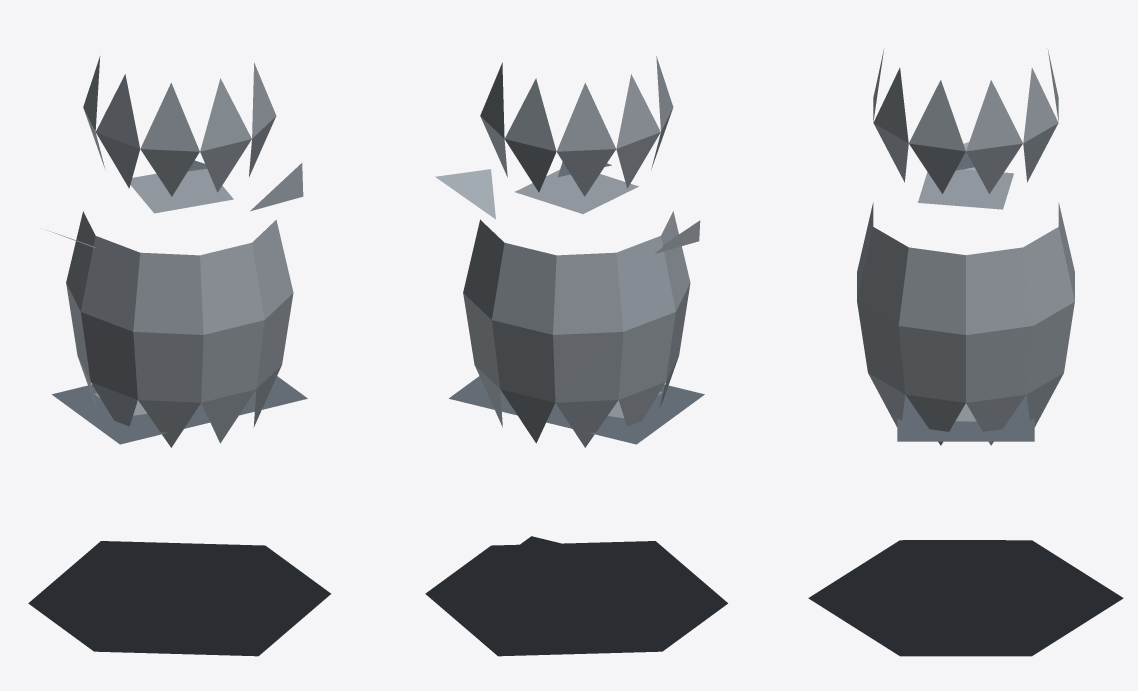
File: flame-proof-suit.lod.glb
3 views of the same model, side by side, from view 1: azimuth 30°, elevation 25°; view 2: azimuth 150°, elevation 25°; view 3: azimuth 270°, elevation 25° (orthographic).
Parts seen in each view (by area): view 1: m; view 2: m; view 3: m.
Part boxes in pixels (bbox=[...]): m: bbox=[28, 56, 330, 656]; m: bbox=[425, 56, 727, 656]; m: bbox=[808, 48, 1123, 656].
Bounding box in the file's own units: 0.3472 × 0.5144 × 0.2572.
